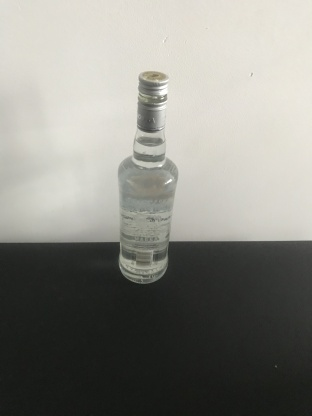nakretka: (135, 69, 170, 134)
